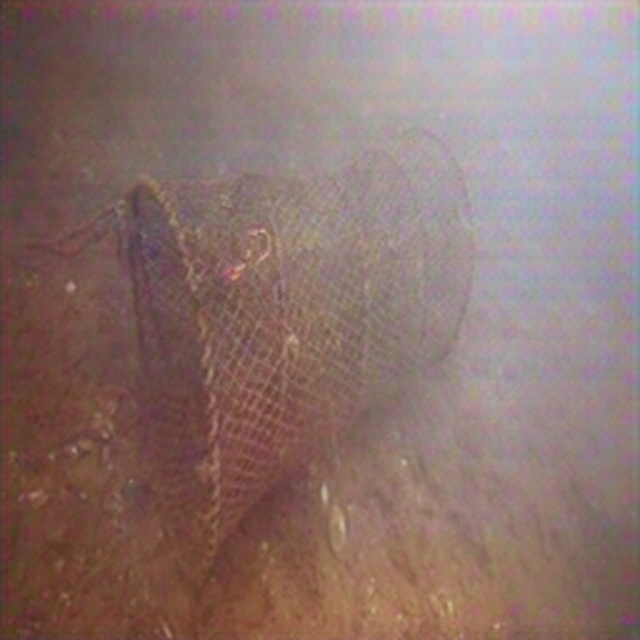mine: (126, 126, 475, 583)
